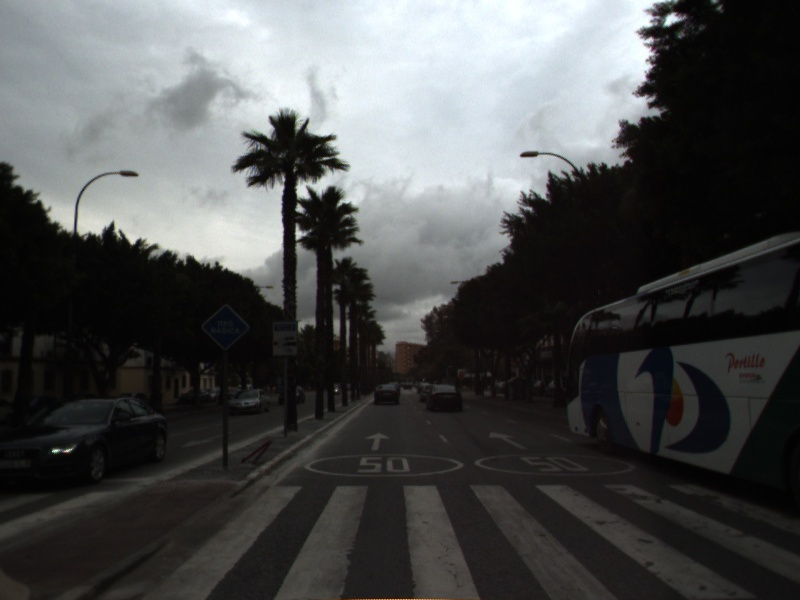STRAIGHT: (486, 429, 530, 452), (363, 430, 393, 452)
